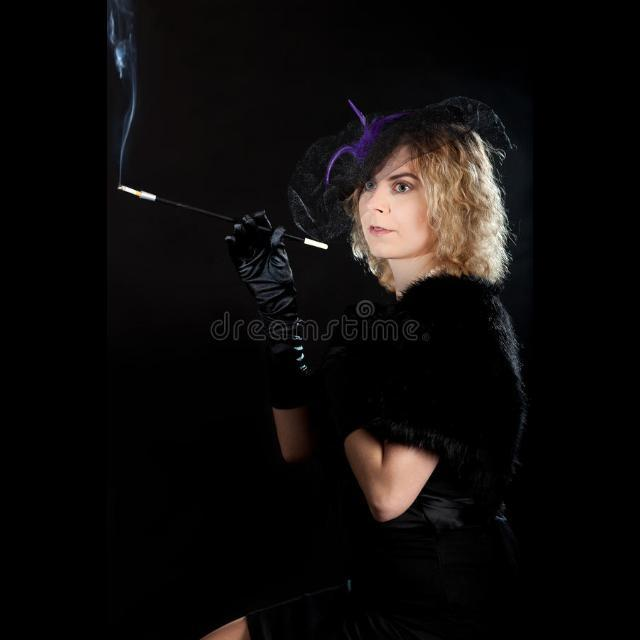rokok: (113, 178, 155, 204)
